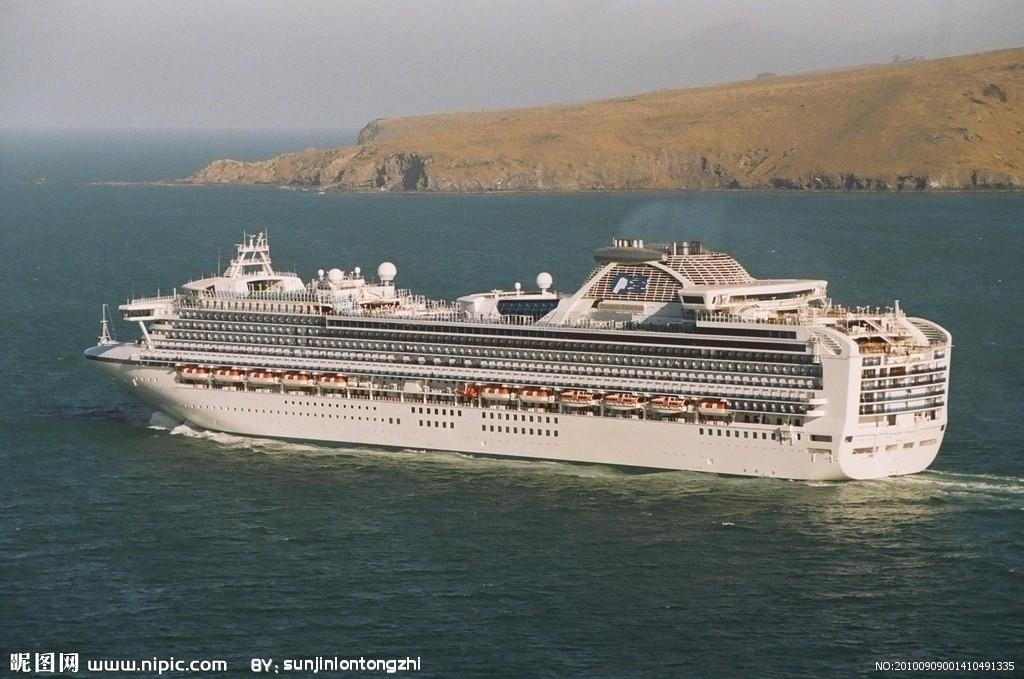youlun: (58, 225, 953, 482)
